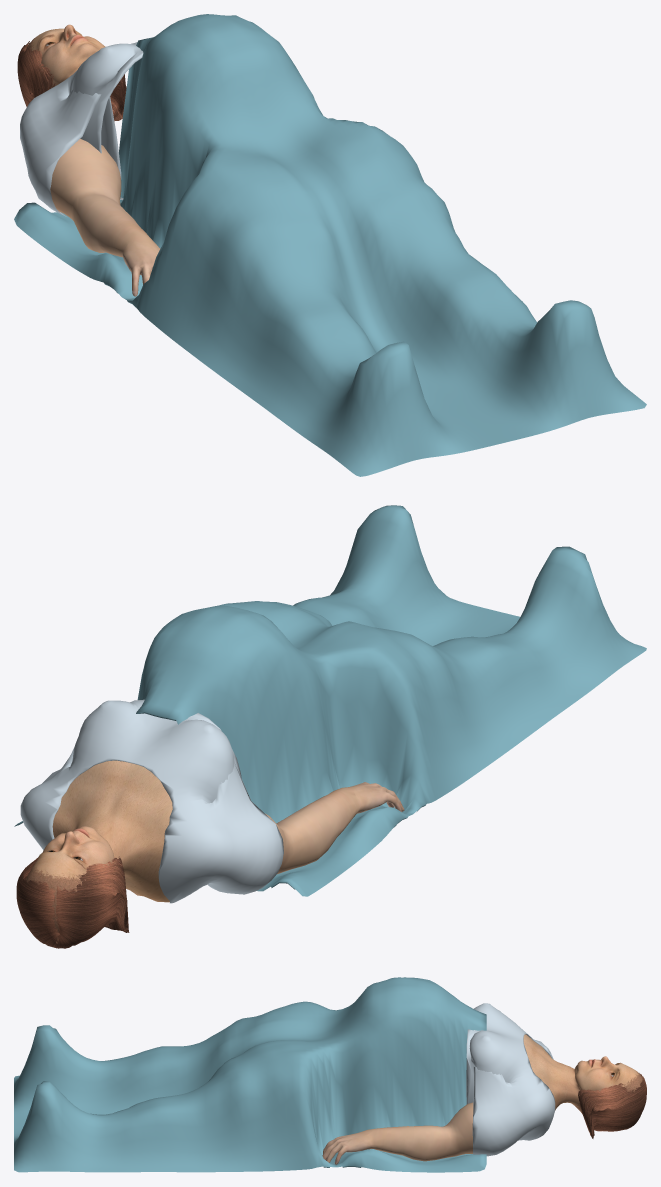
3 renders of one model, top to bottom at view 1: azimuth 30°, elevation 25°; view 2: azimuth 150°, elevation 25°; view 3: azimuth 270°, elevation 25°, orthographic. The views are drawn at different scales.
Parts seen in each view (by area): view 1: sheet, gown, arms, body, hair; view 2: sheet, gown, body, hair, arms; view 3: sheet, gown, arms, body, hair.
Boxes of the visible parts, bbox=[...] form: sheet: bbox=[14, 14, 646, 476]; gown: bbox=[20, 42, 143, 216]; arms: bbox=[50, 138, 160, 296]; body: bbox=[26, 24, 105, 87]; hair: bbox=[17, 41, 126, 121]; sheet: bbox=[14, 505, 646, 896]; gown: bbox=[20, 699, 283, 903]; body: bbox=[26, 760, 172, 943]; hair: bbox=[16, 856, 129, 948]; arms: bbox=[265, 782, 404, 874]; sheet: bbox=[14, 977, 486, 1172]; gown: bbox=[466, 1003, 555, 1156]; arms: bbox=[322, 1102, 473, 1164]; body: bbox=[523, 1034, 642, 1113]; hair: bbox=[578, 1073, 646, 1138].
Bounding box in the file's own units: 0.6407 × 0.4382 × 1.77.
8 materials, 6 textured.
